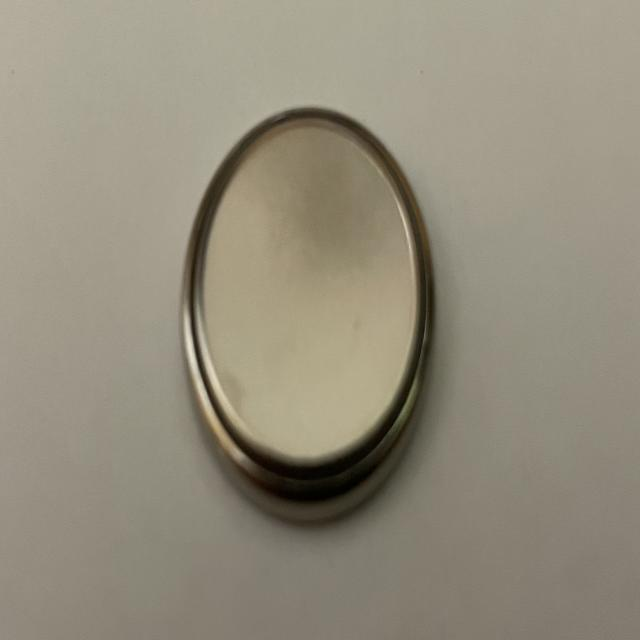COIN: (177, 104, 436, 530)
